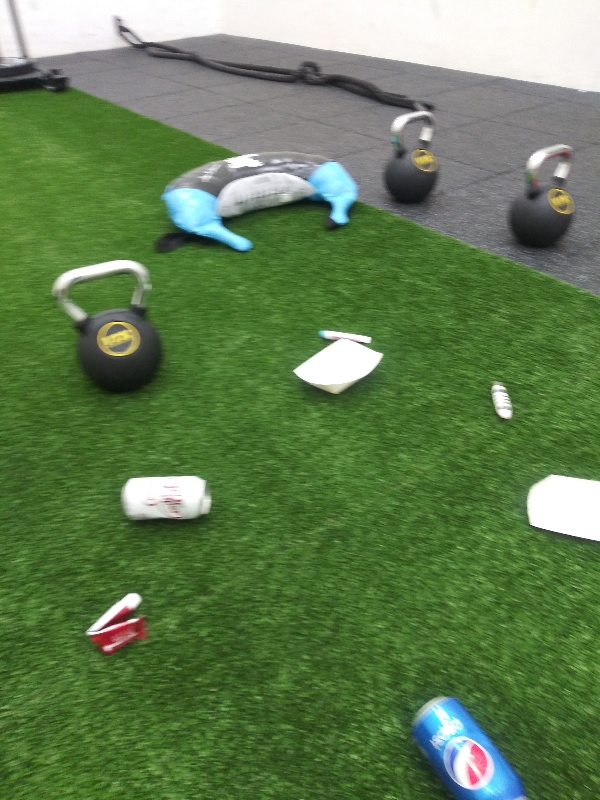can: (407, 692, 534, 800), (116, 476, 215, 525)
plate: (521, 469, 600, 554), (286, 335, 386, 401)
